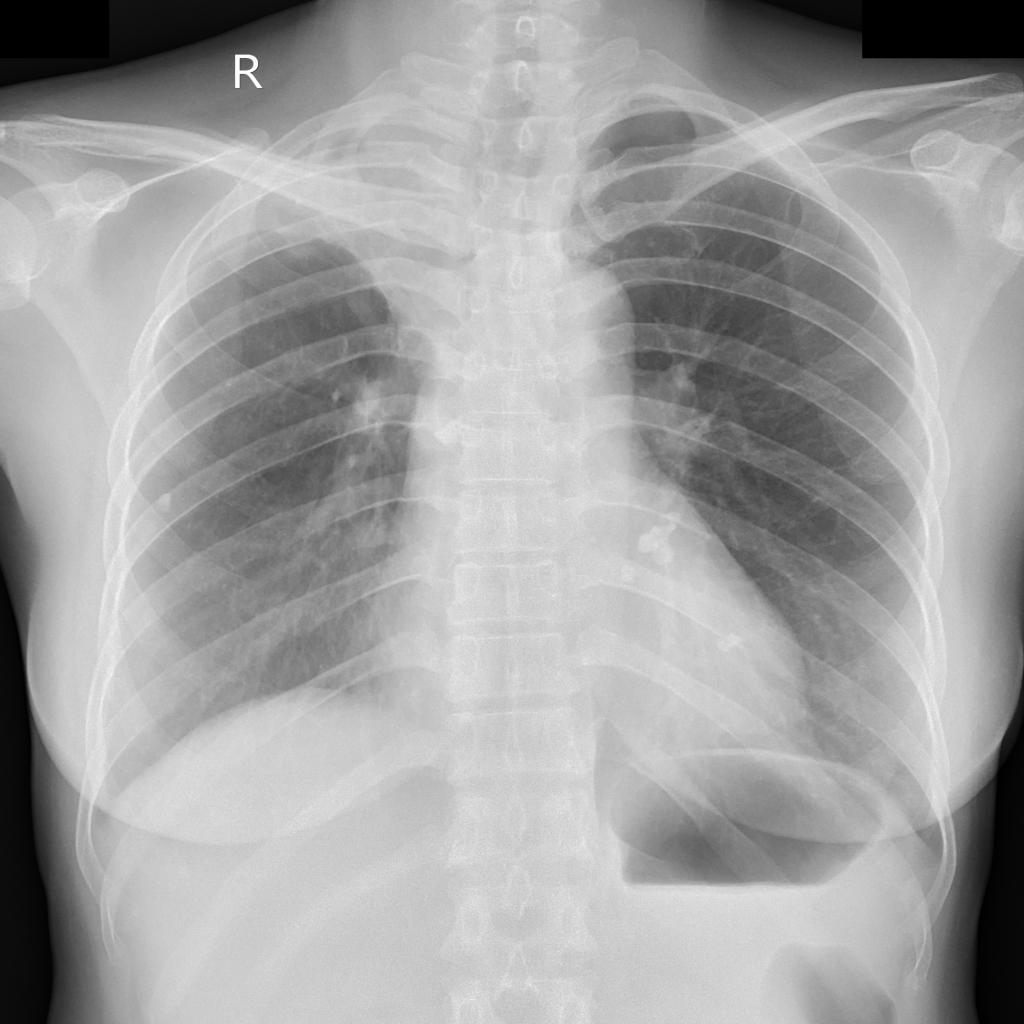Nodule: (638, 513, 682, 567), (719, 633, 746, 650), (156, 491, 171, 510)
